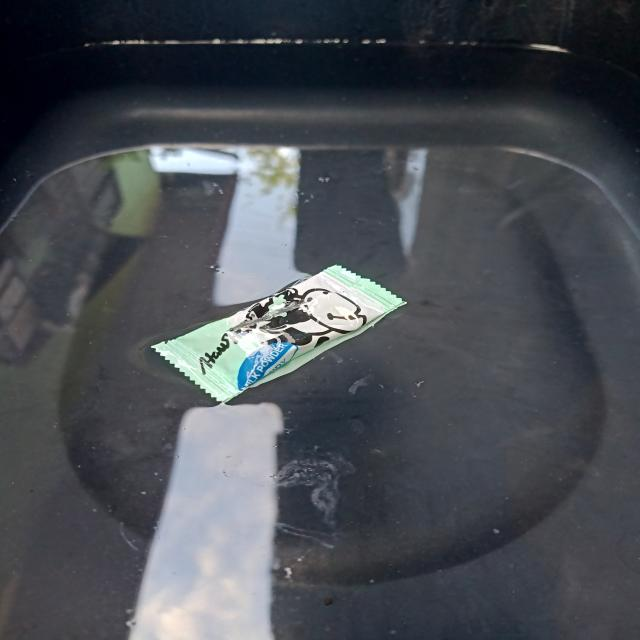Plastic Wrapper: (151, 265, 406, 402)
